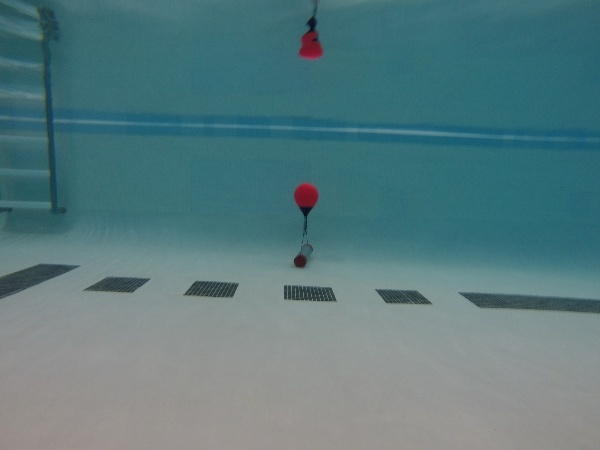buoy_red: (291, 181, 321, 217)
